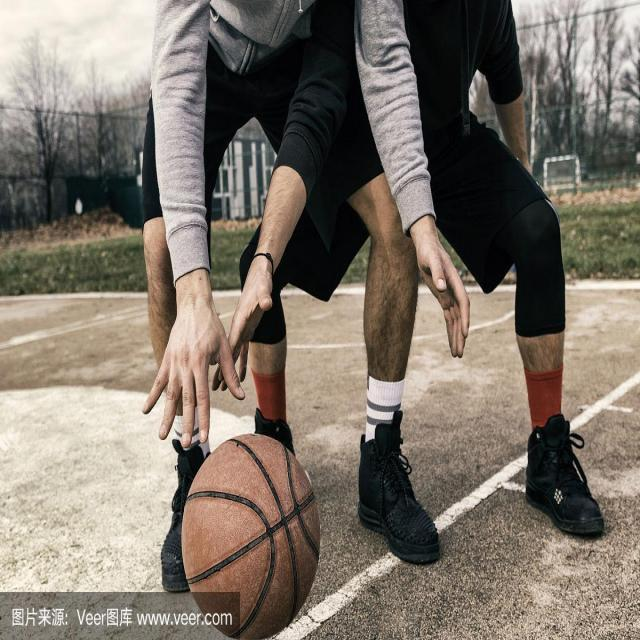rim: (182, 429, 318, 636)
